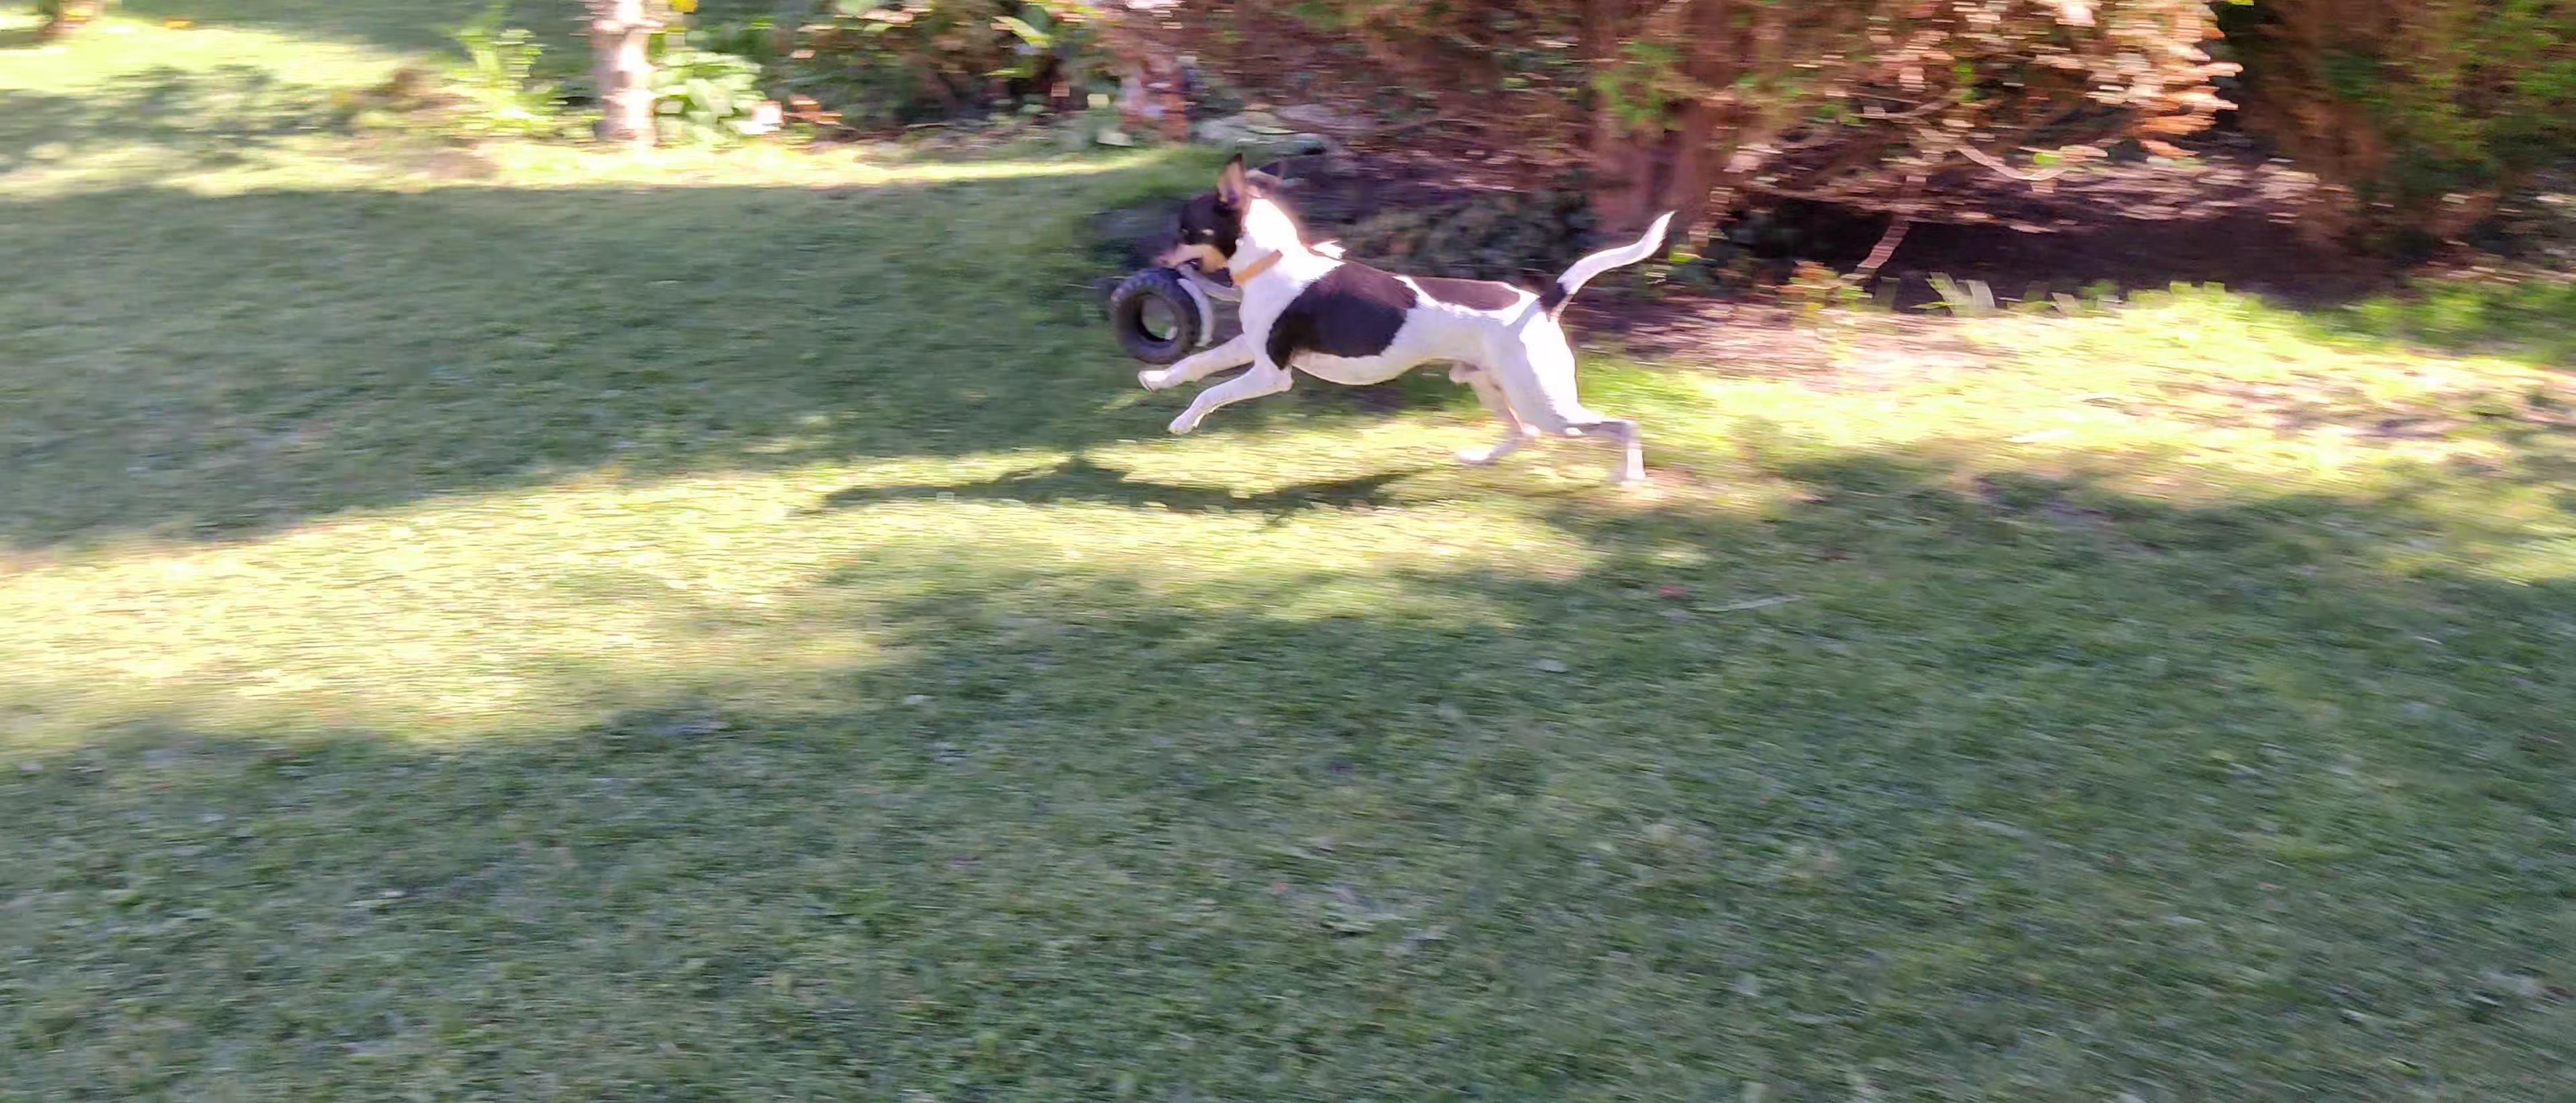Dog: (1127, 133, 1682, 493)
